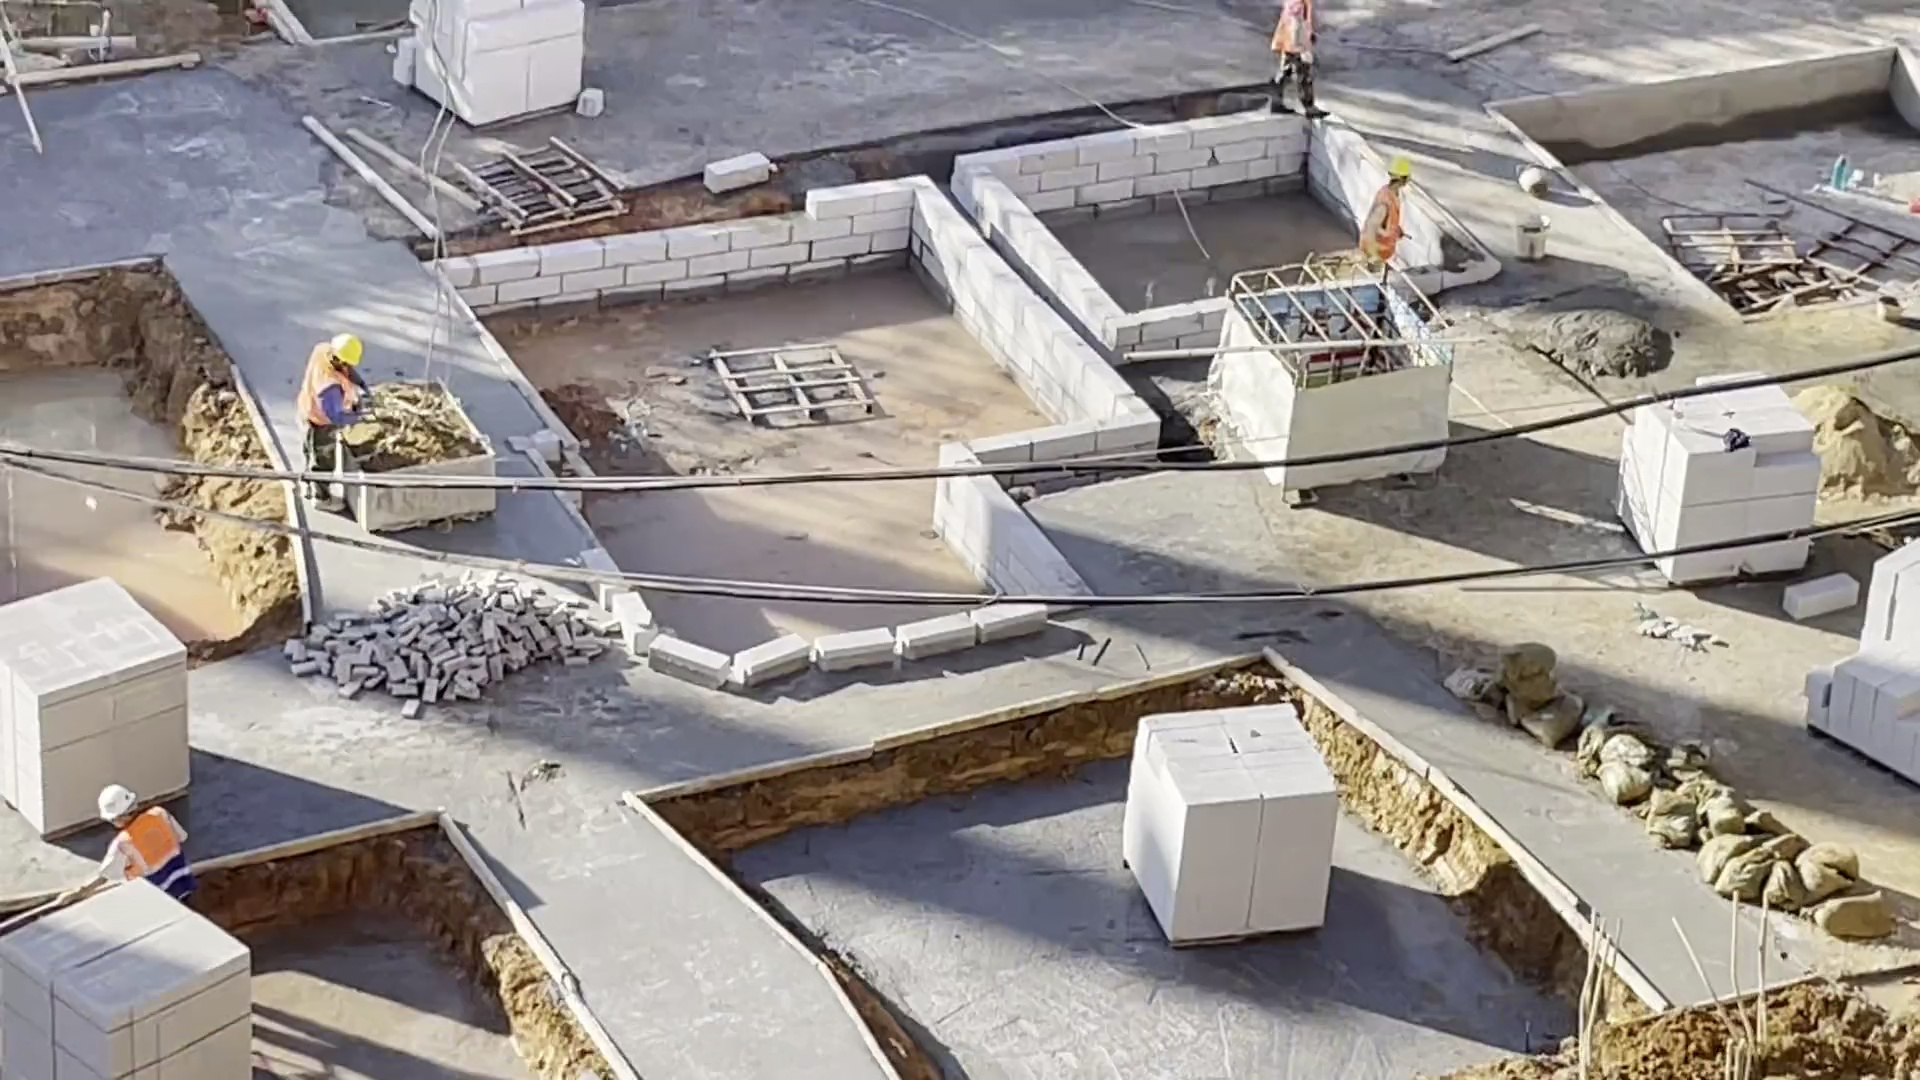brick: (1117, 700, 1347, 952), (1, 569, 199, 834), (1, 882, 260, 1078), (1806, 527, 1920, 780), (1617, 406, 1823, 535), (397, 2, 589, 131)
helmet: (329, 328, 367, 365), (94, 783, 134, 814), (1385, 158, 1410, 177)
person: (292, 327, 375, 511), (58, 783, 195, 885), (1262, 1, 1335, 125), (1358, 155, 1415, 264)
vest: (293, 342, 357, 427), (115, 811, 185, 880), (1358, 185, 1406, 262), (1266, 2, 1319, 57)
